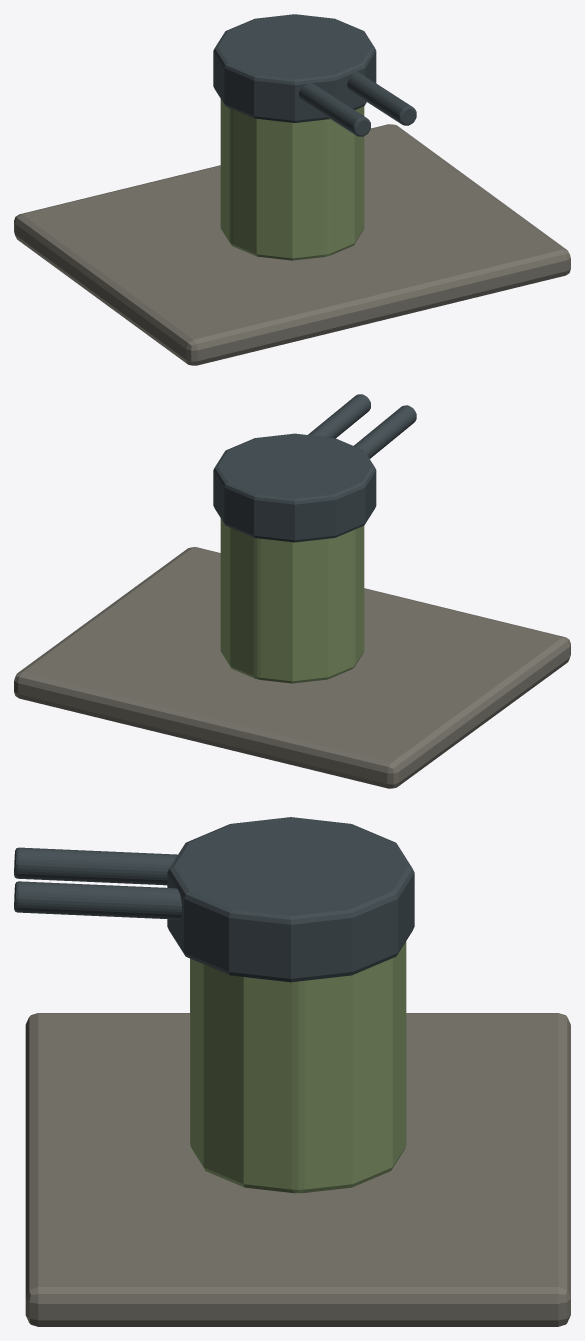
Rendered from human_gun_turret.glb.
3 views of the same model, one above another, from view 1: azimuth 30°, elevation 25°; view 2: azimuth 150°, elevation 25°; view 3: azimuth 270°, elevation 25° (orthographic). The views are drawn at different scales.
Parts seen in each view (by area): view 1: Foundation, Tower, Turret, Cannon, Cannon.001; view 2: Foundation, Tower, Turret, Cannon, Cannon.001; view 3: Foundation, Tower, Turret, Cannon.001, Cannon.
Boxes of the visible parts, left/top/right/bottom form: Foundation: left=14, top=124, right=570, bottom=365; Tower: left=220, top=99, right=364, bottom=260; Turret: left=213, top=14, right=376, bottom=122; Cannon: left=299, top=83, right=370, bottom=136; Cannon.001: left=347, top=72, right=416, bottom=125; Foundation: left=14, top=547, right=570, bottom=788; Tower: left=220, top=518, right=364, bottom=683; Turret: left=213, top=433, right=376, bottom=542; Cannon: left=354, top=405, right=416, bottom=458; Cannon.001: left=308, top=394, right=370, bottom=438; Foundation: left=25, top=1013, right=570, bottom=1326; Tower: left=190, top=941, right=406, bottom=1193; Turret: left=167, top=817, right=414, bottom=982; Cannon.001: left=14, top=881, right=182, bottom=919; Cannon: left=14, top=847, right=177, bottom=885.
Size of the model in its own units: 1.85 by 0.9827 by 1.53.
